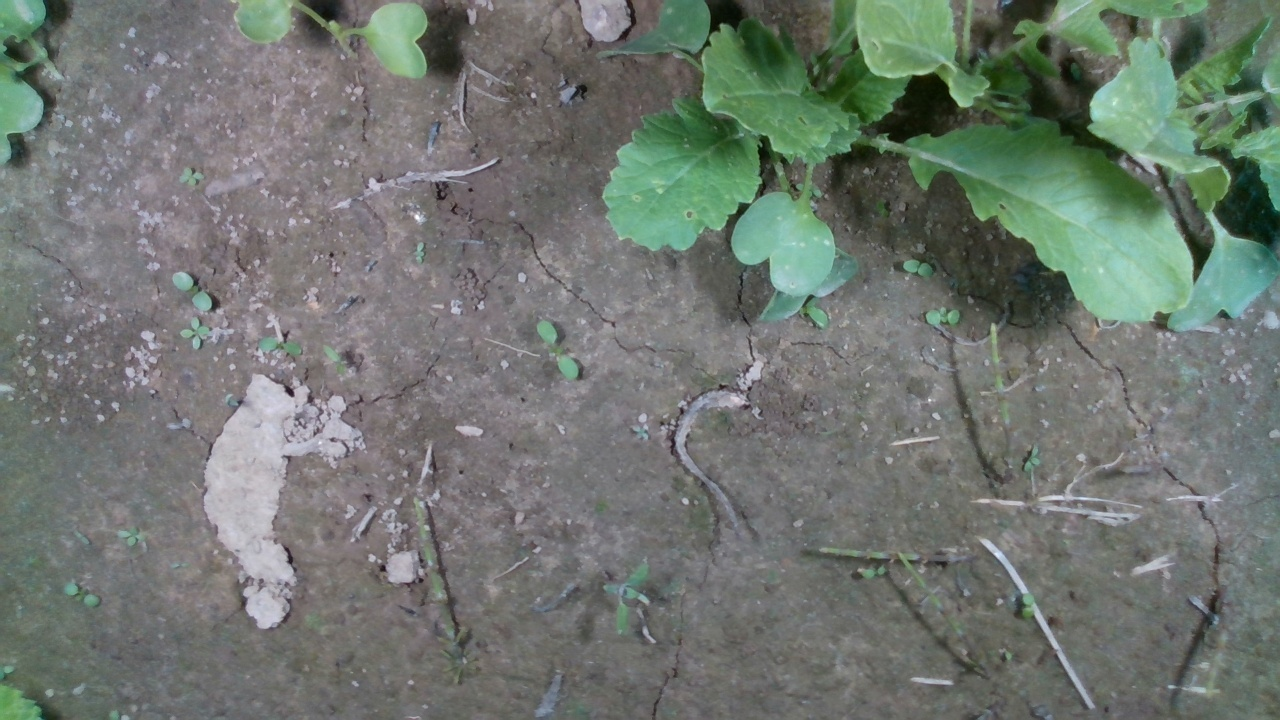weed: (600, 559, 651, 638), (534, 317, 580, 381), (171, 270, 214, 311), (320, 343, 349, 381), (254, 335, 304, 357), (60, 582, 102, 608), (179, 316, 210, 350), (921, 304, 961, 326), (114, 520, 146, 547), (901, 257, 937, 279), (1021, 441, 1041, 474), (177, 166, 205, 185), (855, 564, 887, 580), (411, 240, 427, 265), (1021, 590, 1034, 620), (72, 527, 92, 546)
